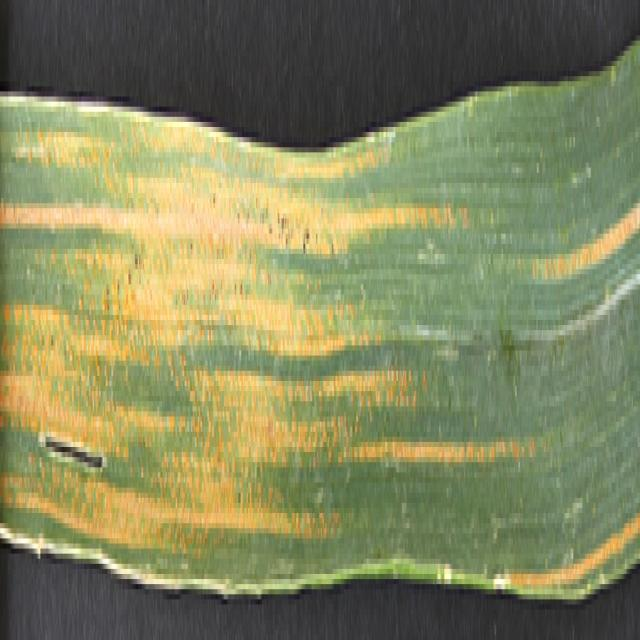leaf rust: (1, 102, 640, 579)
